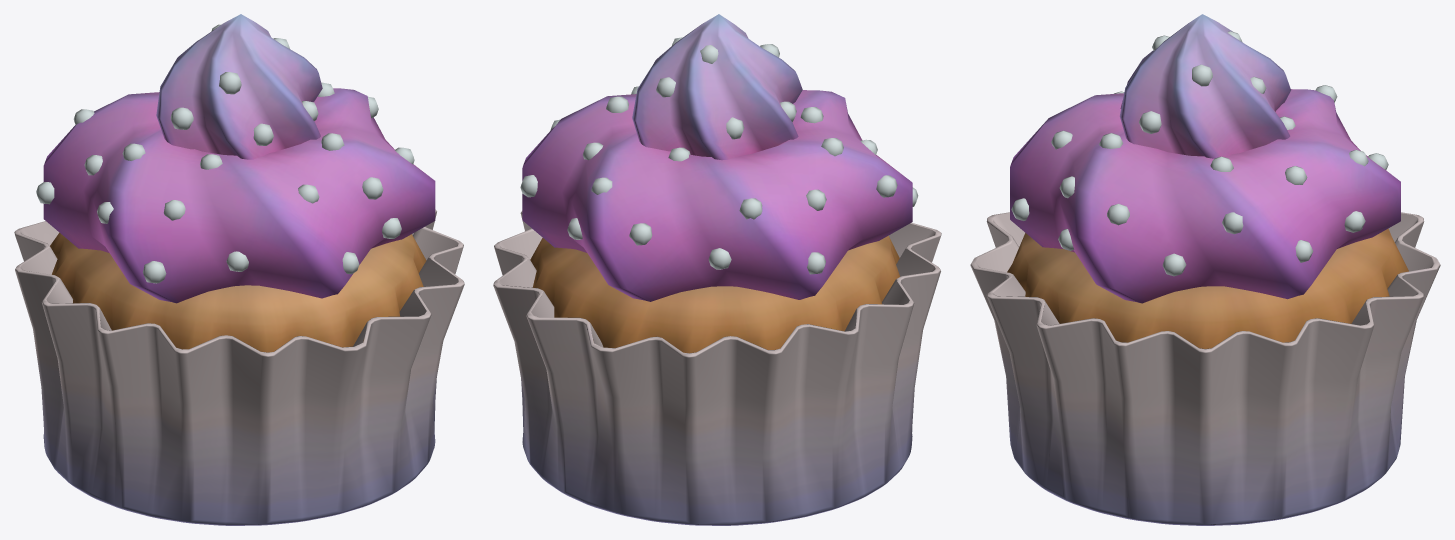
The model's file is wall-candy-4.glb.
3 renders of one model, left to right at view 1: azimuth 30°, elevation 25°; view 2: azimuth 150°, elevation 25°; view 3: azimuth 270°, elevation 25°, orthographic.
Parts seen in each view (by area): view 1: piece; view 2: piece; view 3: piece.
Part boxes in pixels (x1=…): piece: x1=14, y1=14, x2=464, y2=525; piece: x1=493, y1=14, x2=941, y2=525; piece: x1=970, y1=14, x2=1440, y2=525.
Size of the model in its own units: 0.0592 by 0.0622 by 0.0616.
1 material, 1 textured.
